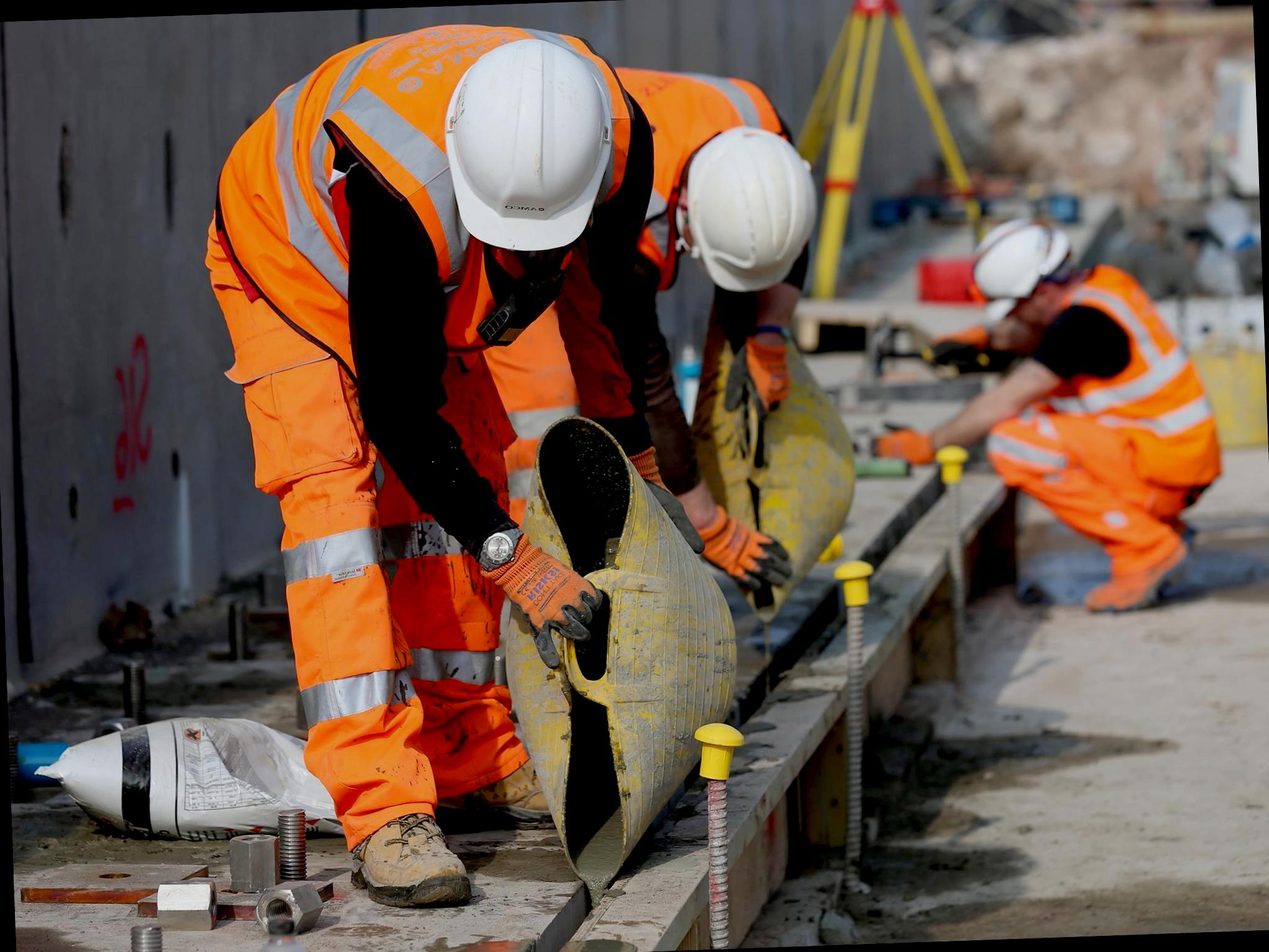helmet: (427, 19, 625, 273), (653, 114, 837, 324), (958, 210, 1078, 308)
person: (213, 0, 653, 919), (946, 194, 1222, 605)
